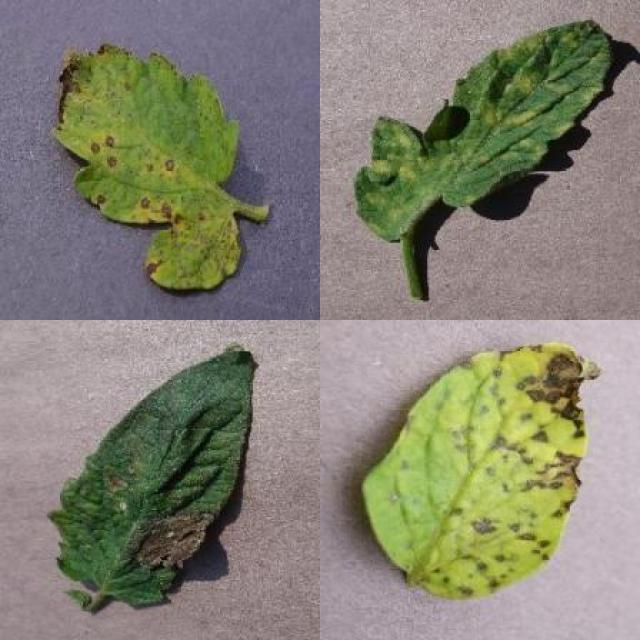Late Blight: (47, 343, 257, 608)
Leaf Mold: (354, 18, 612, 242)
Septoria: (363, 344, 603, 602), (50, 42, 244, 292)
